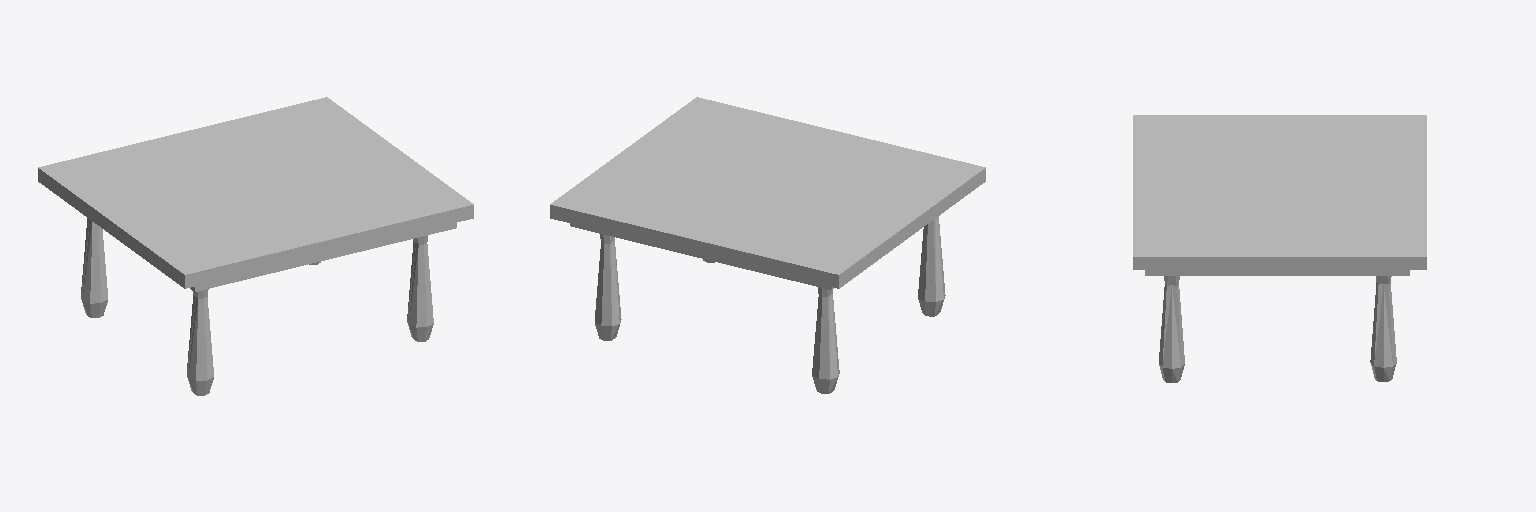
Rendered from Export_table.obj.
The picture shows the model from 3 angles: view 1: azimuth 30°, elevation 25°; view 2: azimuth 150°, elevation 25°; view 3: azimuth 270°, elevation 25°; orthographic projection.
Visible parts, largest first — view 1: Table; view 2: Table; view 3: Table.
Boxes of the visible parts, x1,y1,x2,y2 form: Table: [38, 97, 473, 395]; Table: [550, 97, 985, 393]; Table: [1133, 115, 1426, 382].
Size of the model in its own units: 7.89 by 3.65 by 6.94.